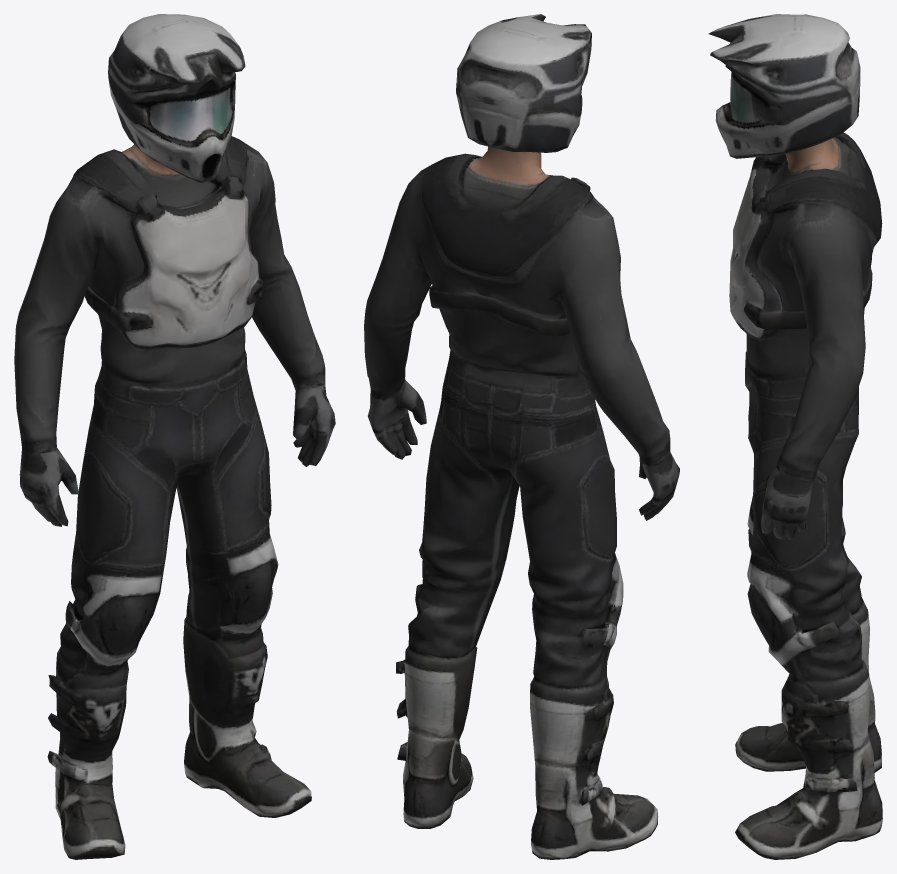
File: rider_fullkit.glb
3 views of the same model, side by side, from view 1: azimuth 30°, elevation 25°; view 2: azimuth 150°, elevation 25°; view 3: azimuth 270°, elevation 25° (orthographic). The views are drawn at different scales.
Visible parts, largest first — view 1: world; view 2: world; view 3: world.
Part boxes in pixels (x1=…): world: x1=14, y1=14, x2=335, y2=859; world: x1=364, y1=14, x2=679, y2=859; world: x1=708, y1=14, x2=882, y2=859.
Bounding box in the file's own units: 0.3978 × 0.9993 × 0.202.
1 material, 1 textured.
